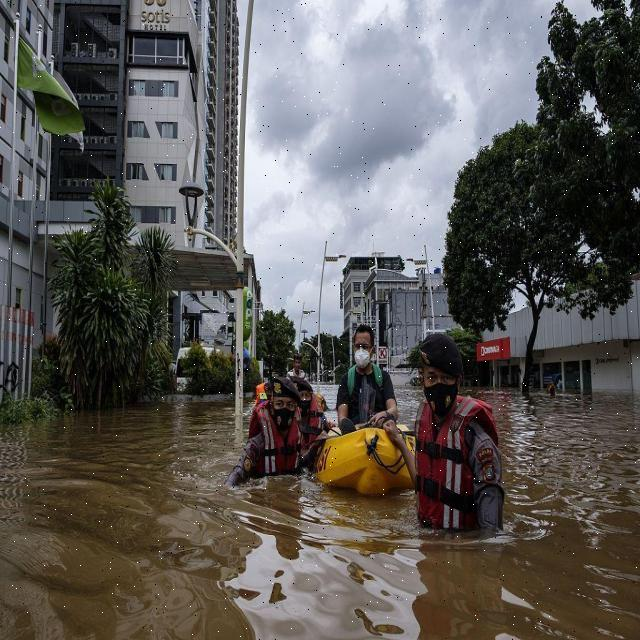rescuer: (409, 340, 512, 544), (326, 326, 404, 428), (241, 374, 308, 482), (288, 367, 332, 438)
